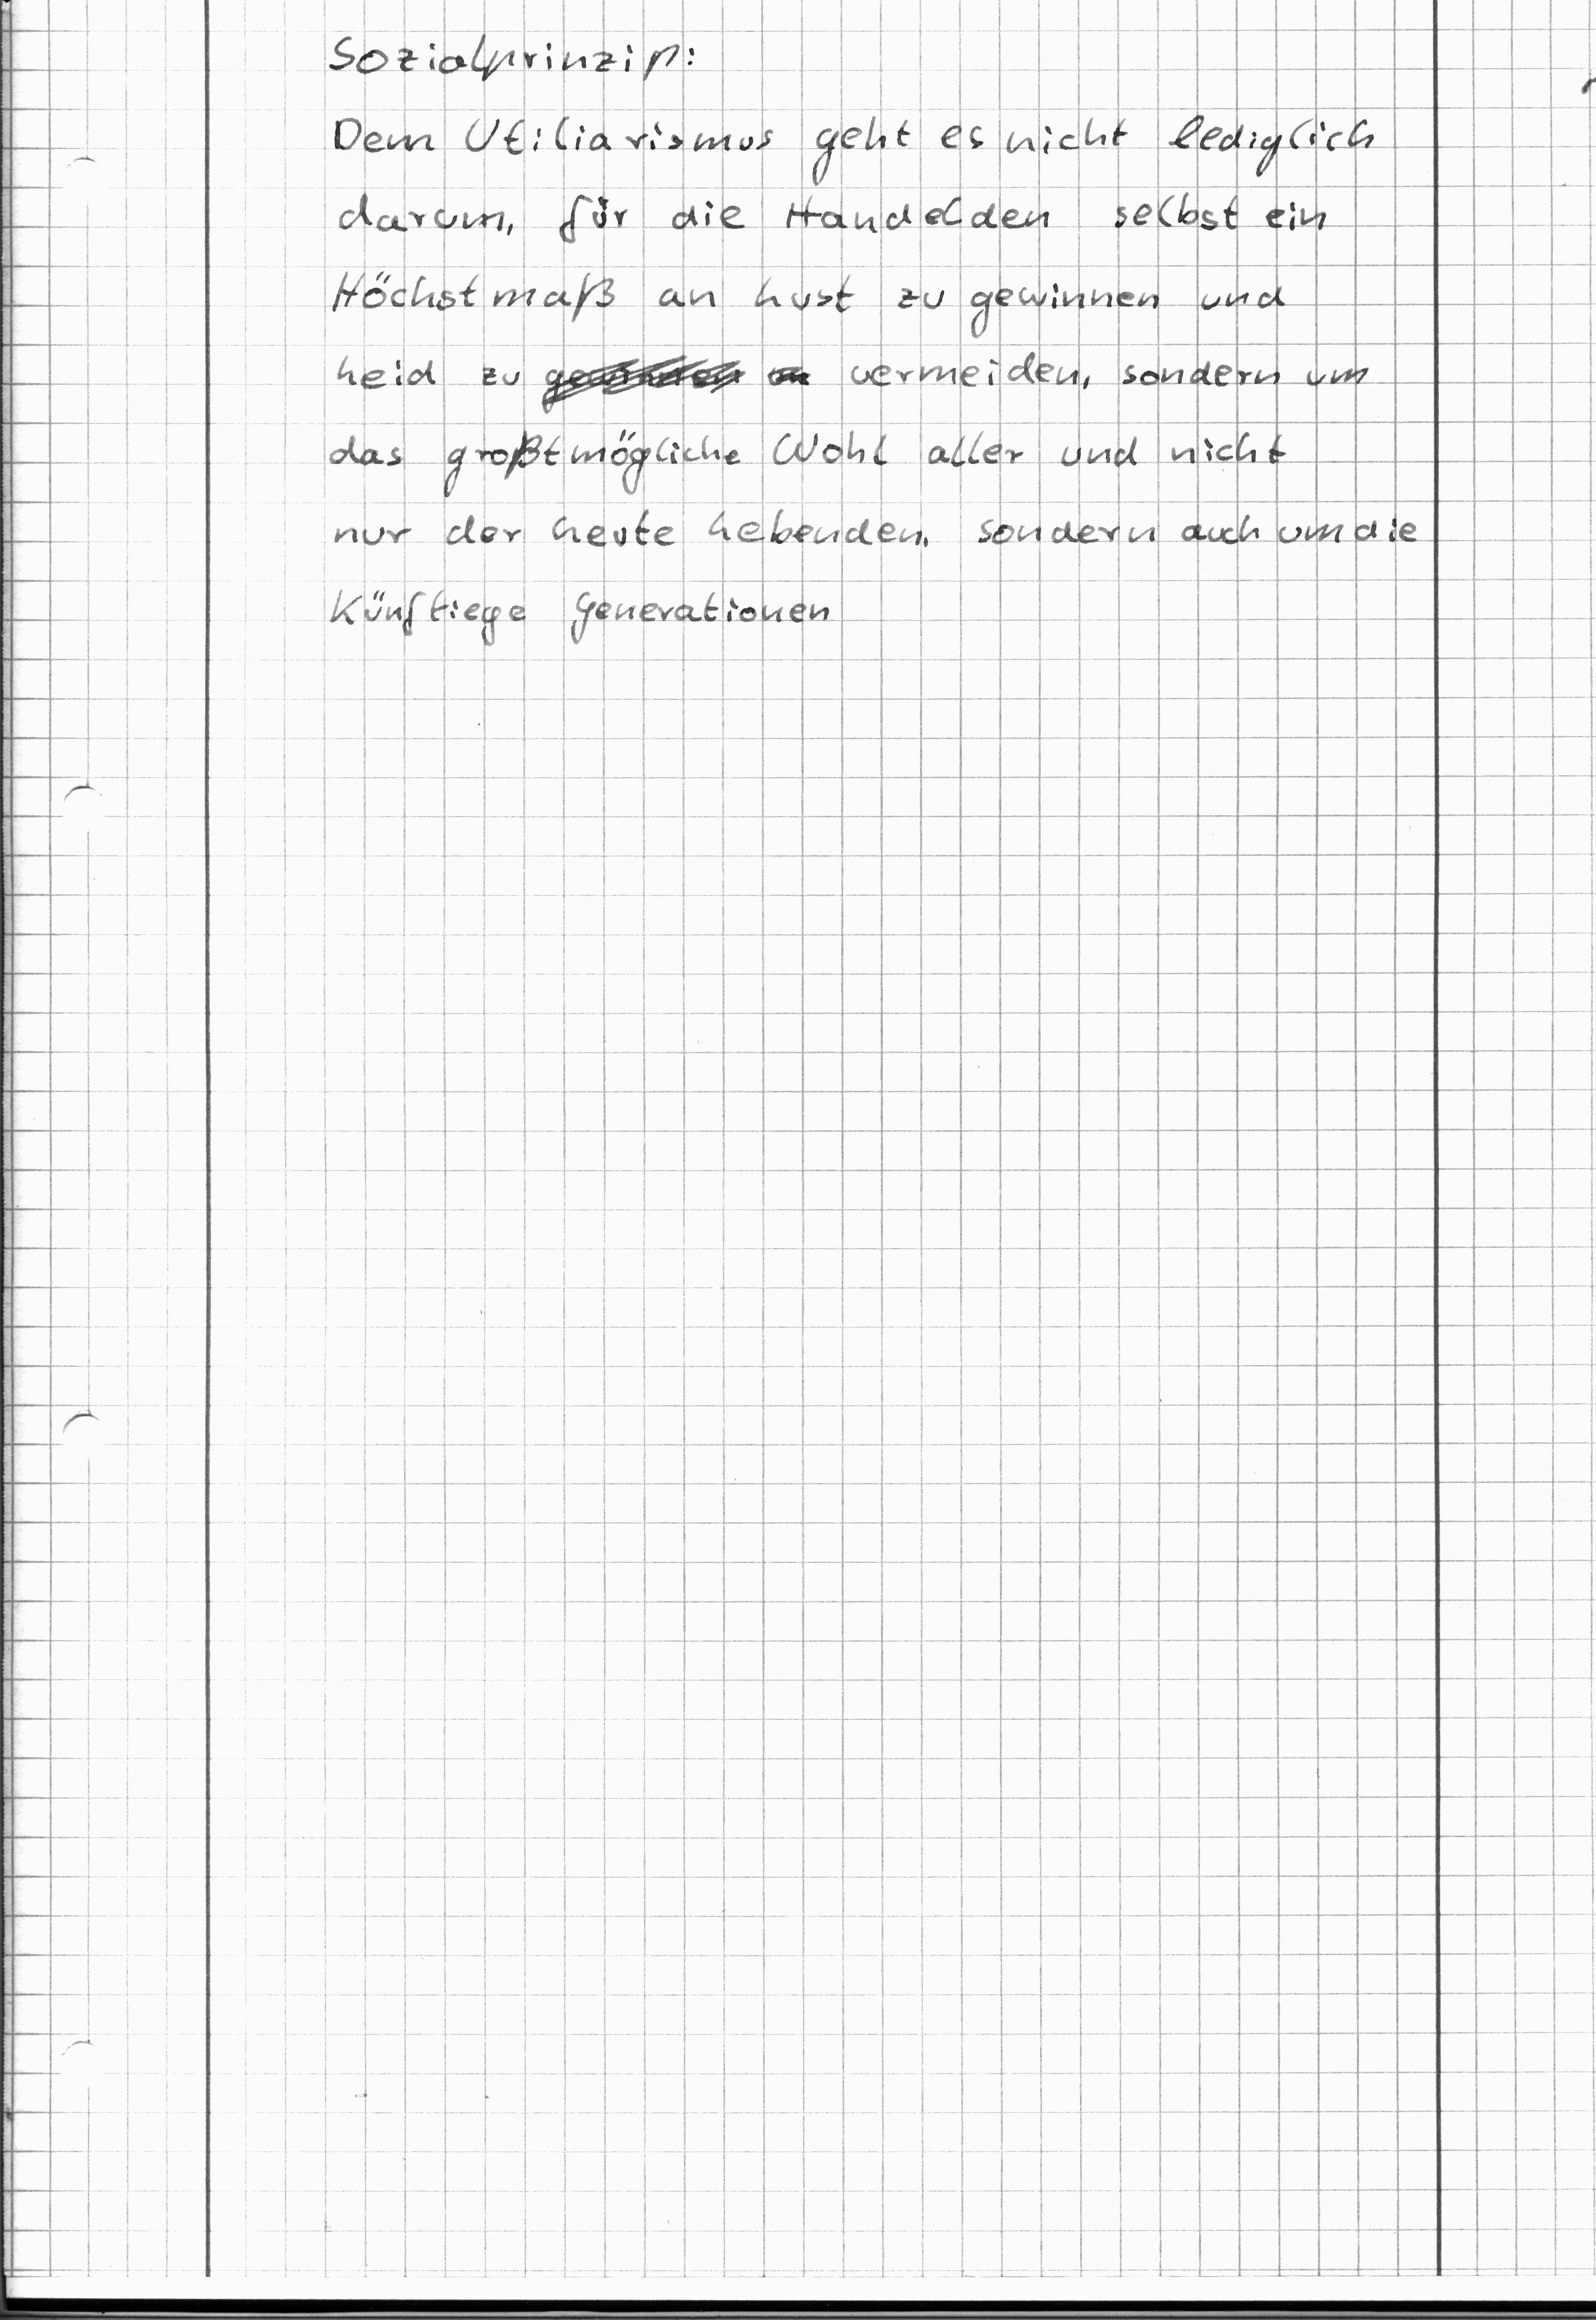word: (320, 101, 1424, 658), (321, 25, 707, 96)
